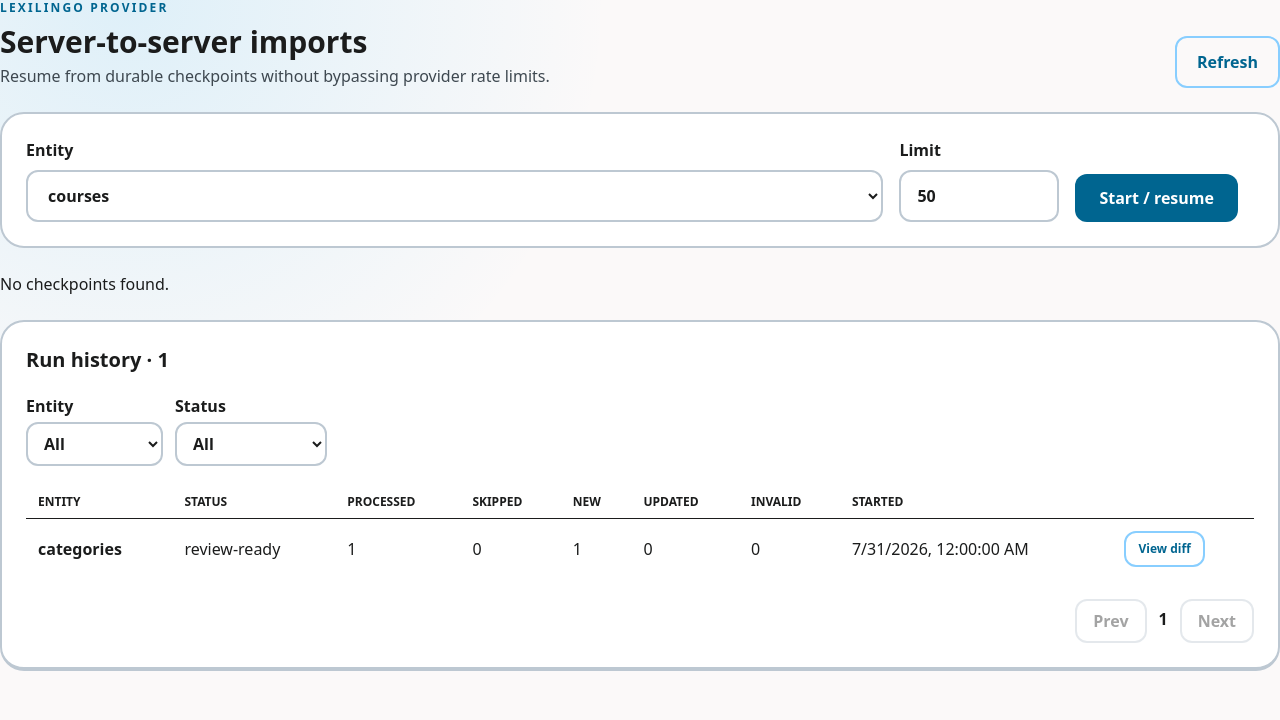
Test: Import history panel › renders staged item diffs with no apply/approve action
Click the button "View diff": (1165, 549) [1124,531,1205,567]
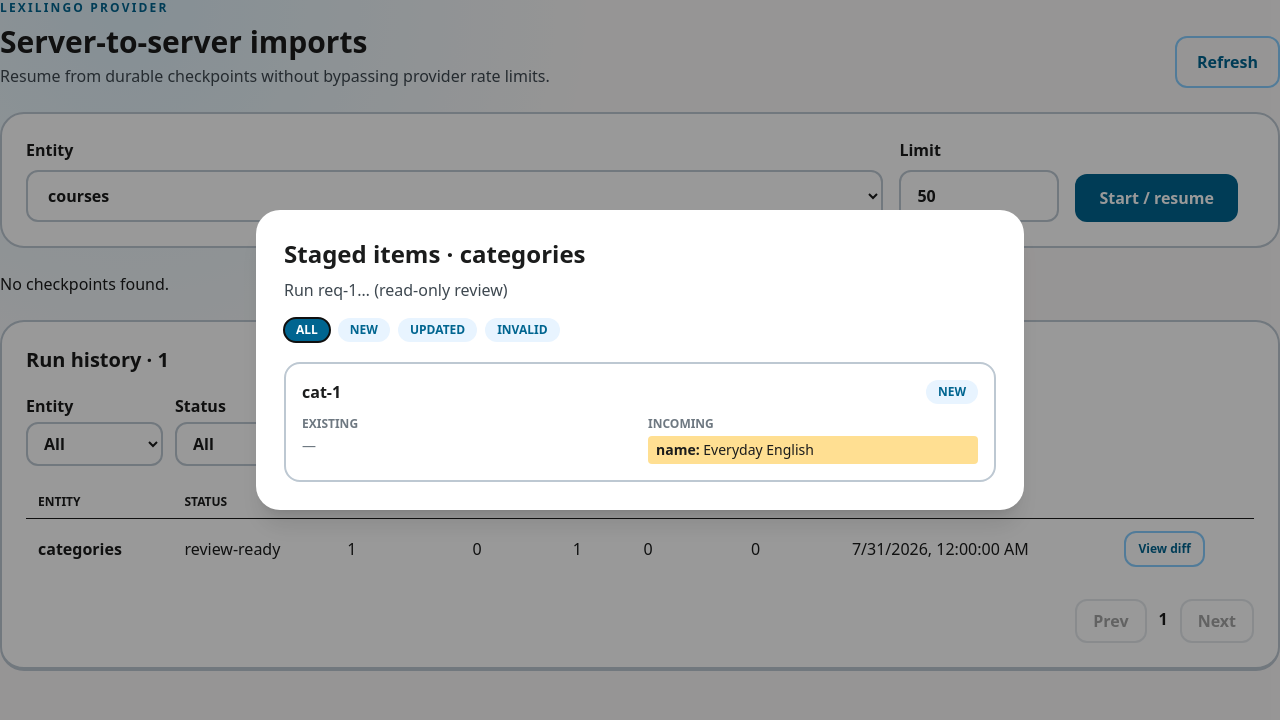
Expected: the text "Everyday English" is shown, [703,440,814,459]
